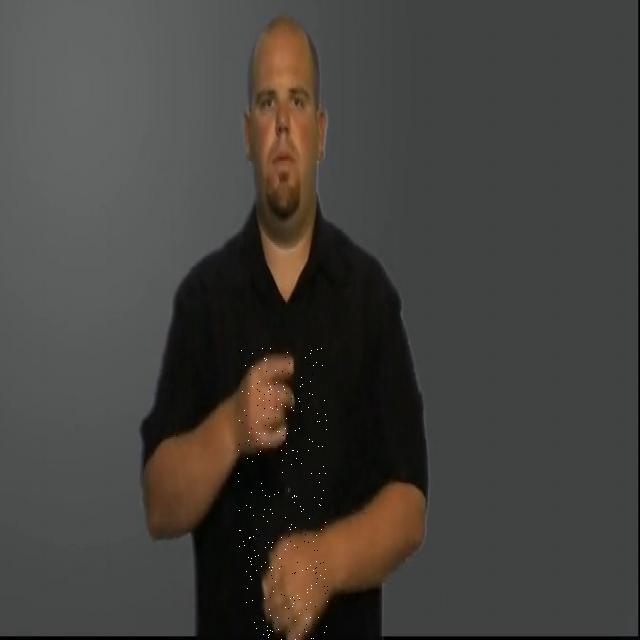alcohol: (237, 348, 328, 640)
